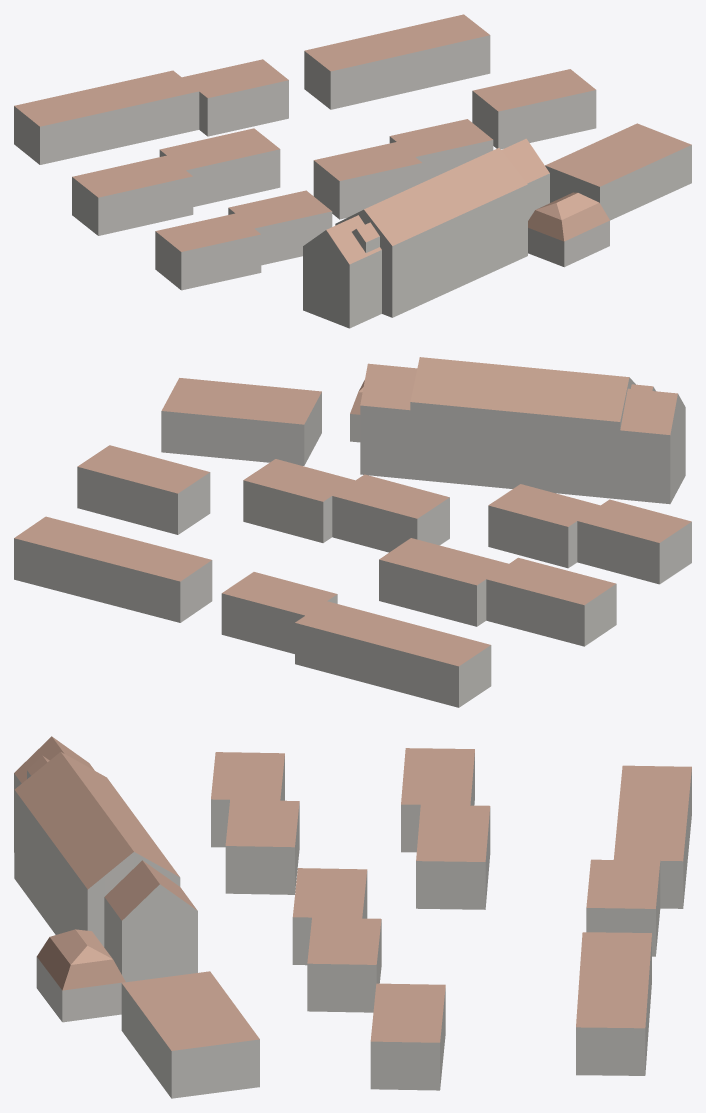
File: gridID_102.dae
3 views of the same model, one above another, from view 1: azimuth 30°, elevation 25°; view 2: azimuth 150°, elevation 25°; view 3: azimuth 270°, elevation 25° (orthographic). The views are drawn at different scales.
Visible parts, largest first — view 1: model_gridID_102_w379334543, model_gridID_102_w376043958, model_gridID_102_r6179397_001, model_gridID_102_r6179390, model_gridID_102_r6179406, model_gridID_102_r6179395, model_gridID_102_r6179392, model_gridID_102_r6179397, model_gridID_102_r6179403, model_gridID_102_r6179408, model_gridID_102_r6179412, model_gridID_102_r6179392_001 (+3 smaller); view 2: model_gridID_102_w379334543, model_gridID_102_w376043958, model_gridID_102_r6179390, model_gridID_102_r6179397_001, model_gridID_102_r6179397, model_gridID_102_r6179406, model_gridID_102_r6179395, model_gridID_102_r6179392, model_gridID_102_r6179403, model_gridID_102_r6179398_001, model_gridID_102_r6179400, model_gridID_102_r6179412 (+2 smaller); view 3: model_gridID_102_w379334543, model_gridID_102_w376043958, model_gridID_102_r6179390, model_gridID_102_r6179397, model_gridID_102_r6179412, model_gridID_102_r6179398_001, model_gridID_102_r6179400, model_gridID_102_w376043958_001, model_gridID_102_r6179408, model_gridID_102_r6179397_001, model_gridID_102_r6179392_001, model_gridID_102_r6179403 (+3 smaller).
Part boxes in pixels (x1,y1,x2,y2): model_gridID_102_w379334543: (303, 138, 549, 328); model_gridID_102_w376043958: (545, 123, 691, 220); model_gridID_102_r6179397_001: (72, 155, 193, 235); model_gridID_102_r6179390: (472, 69, 596, 149); model_gridID_102_r6179406: (304, 32, 410, 109); model_gridID_102_r6179395: (155, 213, 261, 290); model_gridID_102_r6179392: (14, 88, 119, 164); model_gridID_102_r6179397: (159, 128, 280, 206); model_gridID_102_r6179403: (313, 142, 422, 219); model_gridID_102_r6179408: (182, 59, 288, 136); model_gridID_102_r6179412: (384, 14, 490, 91); model_gridID_102_r6179392_001: (94, 70, 199, 147); model_gridID_102_w379334543: (360, 357, 685, 504); model_gridID_102_w376043958: (161, 378, 321, 465); model_gridID_102_r6179390: (77, 445, 210, 534); model_gridID_102_r6179397_001: (486, 557, 616, 646); model_gridID_102_r6179397: (379, 538, 508, 626); model_gridID_102_r6179406: (97, 538, 212, 622); model_gridID_102_r6179395: (577, 499, 691, 584); model_gridID_102_r6179392: (377, 623, 491, 707); model_gridID_102_r6179403: (332, 474, 449, 552); model_gridID_102_r6179398_001: (488, 484, 600, 568); model_gridID_102_r6179400: (243, 459, 354, 542); model_gridID_102_r6179412: (14, 516, 128, 601); model_gridID_102_w379334543: (14, 736, 197, 982); model_gridID_102_w376043958: (121, 971, 259, 1098); model_gridID_102_r6179390: (370, 983, 445, 1090); model_gridID_102_r6179397: (416, 804, 490, 909); model_gridID_102_r6179412: (576, 979, 648, 1075); model_gridID_102_r6179398_001: (225, 799, 299, 894); model_gridID_102_r6179400: (307, 917, 381, 1012); model_gridID_102_w376043958_001: (36, 929, 125, 1022); model_gridID_102_r6179408: (586, 859, 660, 956); model_gridID_102_r6179397_001: (401, 748, 474, 852); model_gridID_102_r6179392_001: (613, 812, 687, 908); model_gridID_102_r6179403: (292, 868, 367, 965).
Size of the model in its own units: 102 by 96.55 by 19.
